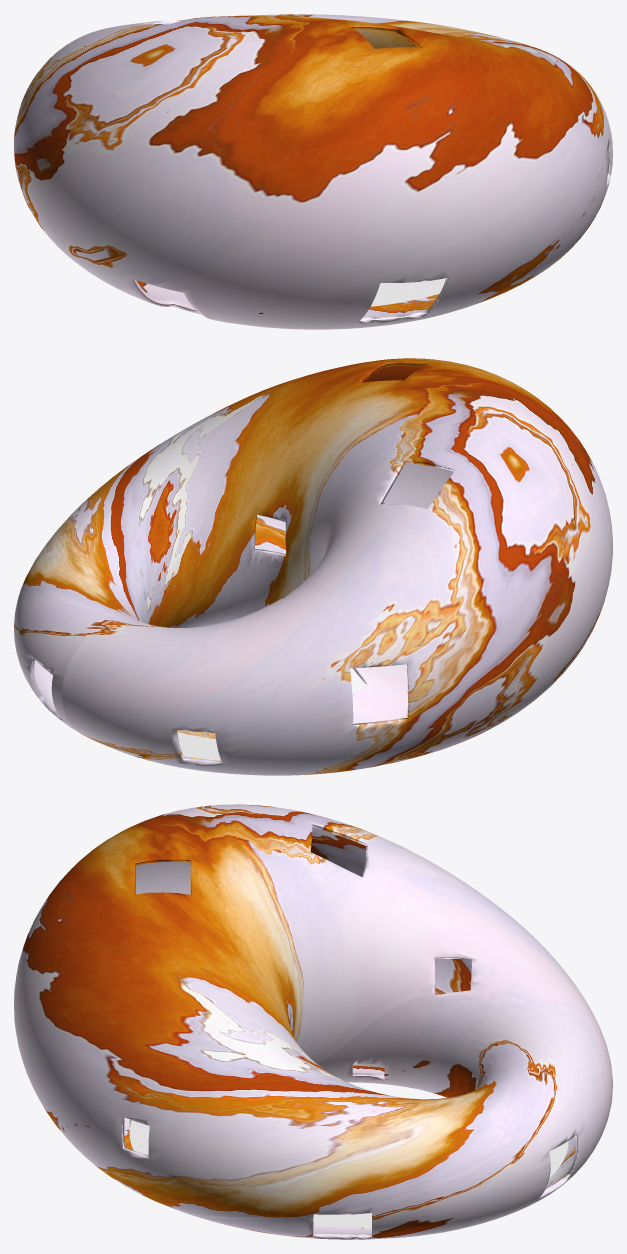
3 views of the same model, one above another, from view 1: azimuth 30°, elevation 25°; view 2: azimuth 150°, elevation 25°; view 3: azimuth 270°, elevation 25° (orthographic). The views are drawn at different scales.
Parts seen in each view (by area): view 1: Solids, Ramps_2; view 2: Solids, Ramps_2; view 3: Solids, Ramps_2.
Part boxes in pixels (x1=…): Solids: x1=14, y1=14, x2=612, y2=329; Ramps_2: x1=371, y1=278, x2=446, y2=306; Solids: x1=14, y1=358, x2=612, y2=775; Ramps_2: x1=177, y1=714, x2=407, y2=760; Solids: x1=14, y1=804, x2=612, y2=1239; Ramps_2: x1=129, y1=1066, x2=568, y2=1227.
Size of the model in its own units: 47.72 by 24.43 by 48.56.
2 materials, 2 textured.
